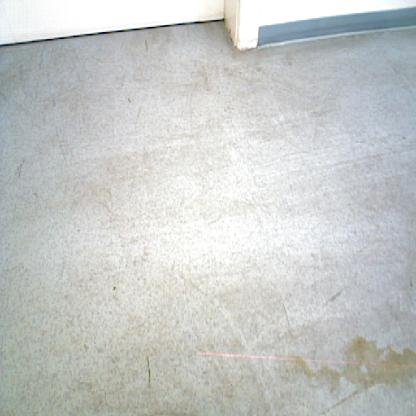liquid: (341, 335, 416, 396), (282, 355, 341, 396), (324, 389, 358, 414), (402, 395, 416, 410)
mark: (322, 288, 344, 307), (14, 156, 26, 178), (281, 302, 290, 324), (146, 355, 152, 385), (145, 39, 150, 54), (136, 106, 142, 118), (408, 279, 414, 290), (52, 97, 58, 108), (127, 96, 132, 106), (112, 284, 117, 292), (401, 134, 406, 142)
